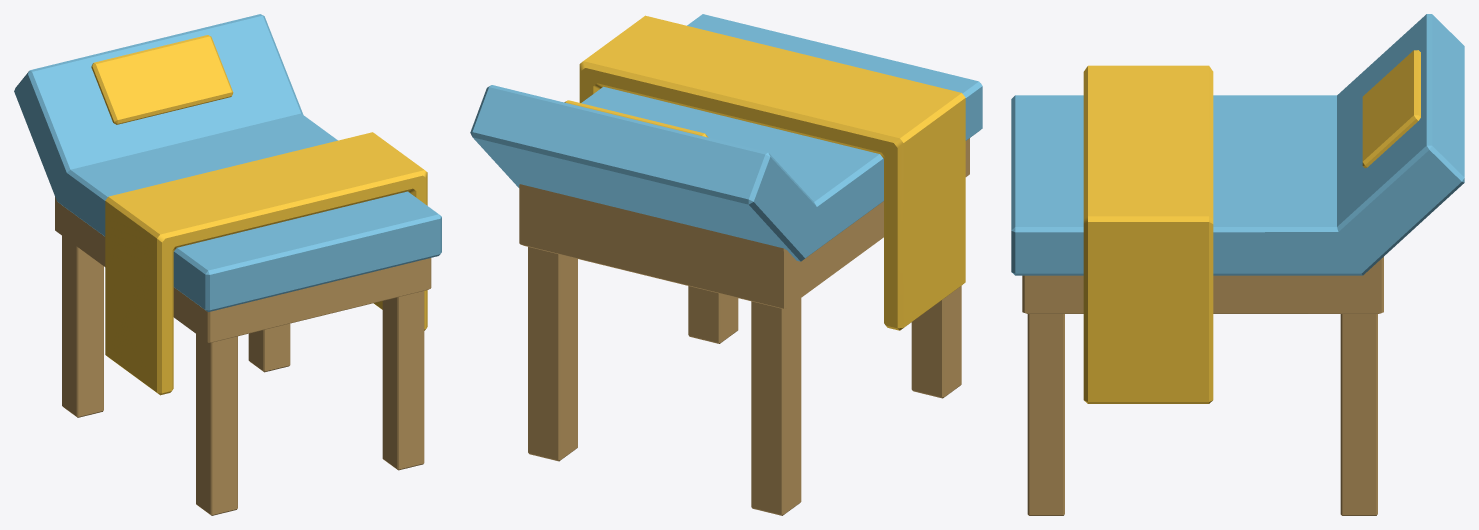
Rendered from Massage_table_03.fbx.
The picture shows the model from 3 angles, left to right: view 1: azimuth 30°, elevation 25°; view 2: azimuth 150°, elevation 25°; view 3: azimuth 270°, elevation 25°; orthographic projection. The views are drawn at different scales.
Visible parts, largest first — view 1: Bed_04, BedSheet_02, Leg_02_m, Pillow_03, Leg_02_m2, Leg_02_m3, Leg_02_m4, Leg_02_m1; view 2: Bed_04, BedSheet_02, Leg_02_m, Leg_02_m4, Leg_02_m1, Leg_02_m3, Leg_02_m2; view 3: Bed_04, BedSheet_02, Leg_02_m, Leg_02_m1, Leg_02_m2, Pillow_03.
Boxes of the visible parts, x1,y1,x2,y2 form: Bed_04: (14,14,441,312); BedSheet_02: (105,132,427,395); Leg_02_m: (55,197,431,342); Pillow_03: (91,35,233,124); Leg_02_m2: (382,291,424,470); Leg_02_m3: (196,334,237,515); Leg_02_m4: (62,236,103,417); Leg_02_m1: (248,323,290,372); Bed_04: (470,14,982,261); BedSheet_02: (579,15,965,330); Leg_02_m: (519,138,969,308); Leg_02_m4: (751,298,801,515); Leg_02_m1: (528,247,577,461); Leg_02_m3: (911,286,961,398); Leg_02_m2: (688,286,738,343); Bed_04: (1011,14,1464,275); BedSheet_02: (1083,65,1213,403); Leg_02_m: (1022,257,1383,313); Leg_02_m1: (1340,314,1377,515); Leg_02_m2: (1027,314,1064,515); Pillow_03: (1362,50,1420,168).
Size of the model in its own units: 111 by 126 by 138.
Materials: 1 (1 with a texture image).
